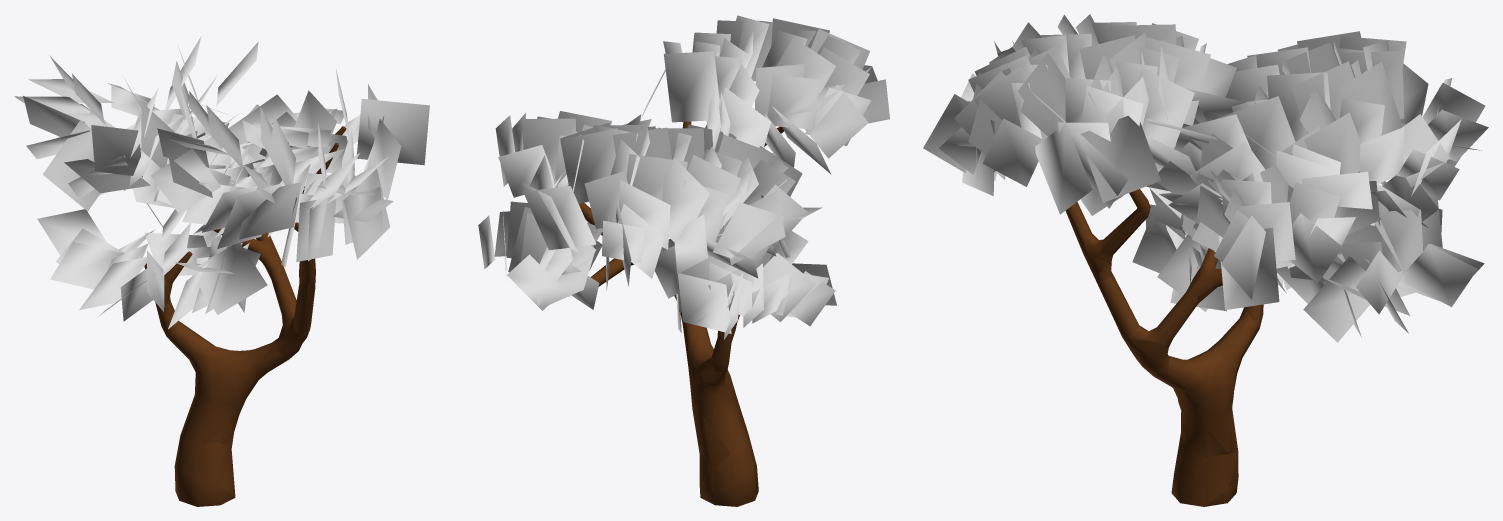
File: tree.glb
The picture shows the model from 3 angles, left to right: view 1: azimuth 30°, elevation 25°; view 2: azimuth 150°, elevation 25°; view 3: azimuth 270°, elevation 25°; orthographic projection. The views are drawn at different scales.
Parts seen in each view (by area): view 1: leaves, tree1; view 2: leaves, tree1; view 3: leaves, tree1.
Boxes of the visible parts, bbox=[...] form: leaves: bbox=[14, 36, 429, 328]; tree1: bbox=[144, 126, 346, 506]; leaves: bbox=[478, 15, 889, 340]; tree1: bbox=[579, 121, 783, 506]; leaves: bbox=[923, 14, 1488, 342]; tree1: bbox=[1065, 189, 1263, 506].
Size of the model in its own units: 22.75 by 26.34 by 28.92.
